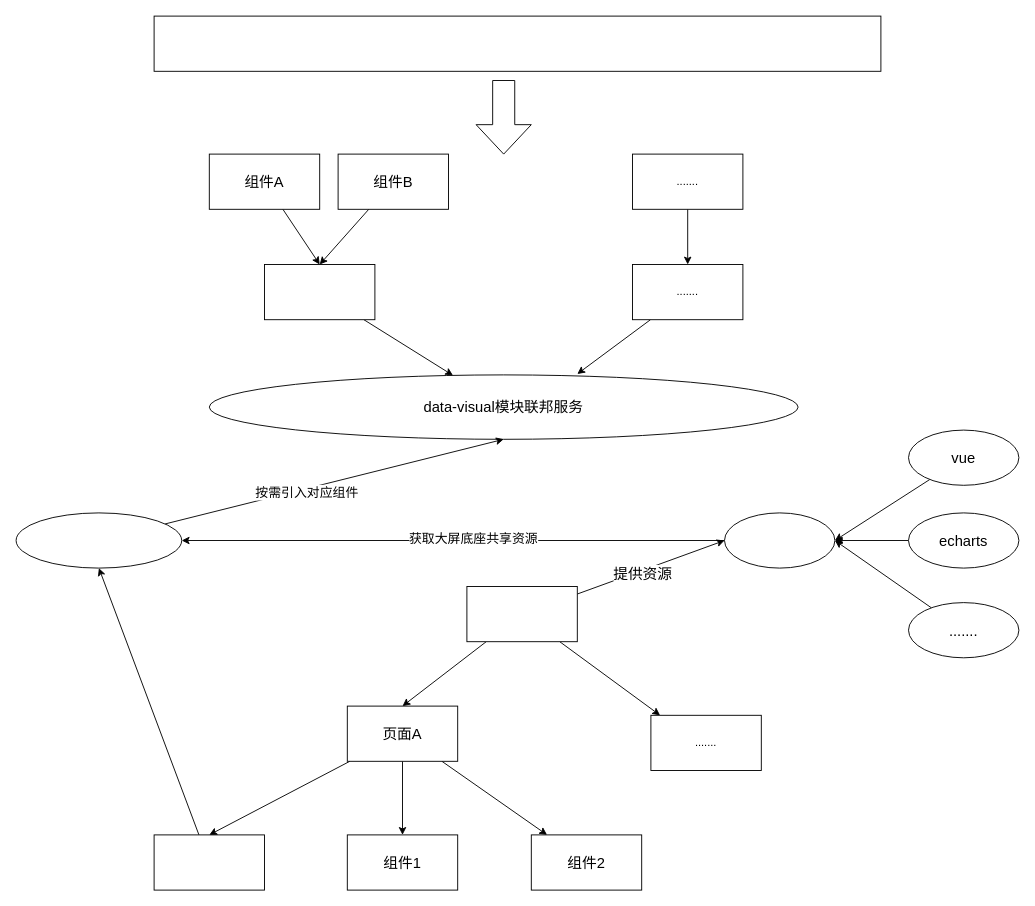
The diagram is 1035 pixels wide and 906 high, and some of its shapes have lost their labels. The centre of each missing label's shape, as x and y in pixels:
"ipes一线组件库" goes at pixel 319 292.
"共享资源" goes at pixel 779 540.
"大屏底座" goes at pixel 521 614.
"数据服务 提供数据" goes at pixel 517 43.
"模块联邦组件（组件A）" goes at pixel 208 862.
"请求远端服务获取组件" goes at pixel 98 540.
